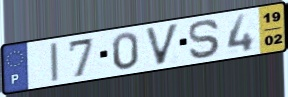0: (110, 30, 141, 73)
4: (224, 12, 258, 54)
7: (67, 38, 97, 79)
I: (48, 41, 61, 84)
S: (187, 18, 223, 60)
V: (143, 21, 182, 68)
